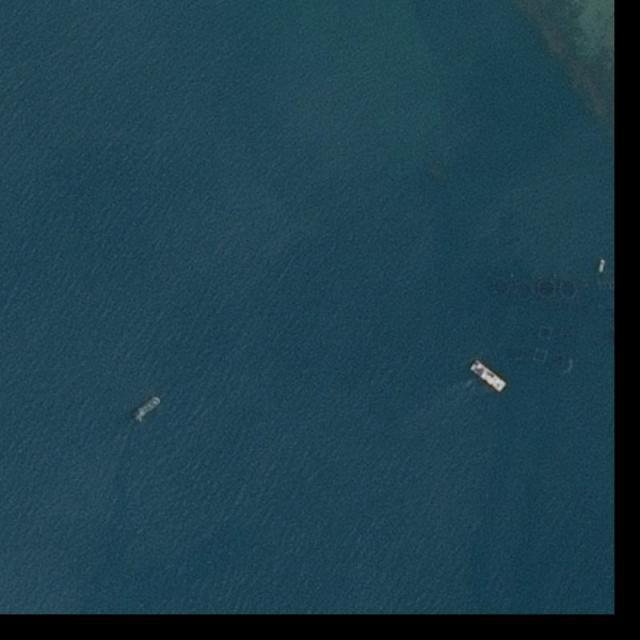ship: (470, 359, 509, 394), (130, 395, 163, 422), (597, 259, 607, 274)
